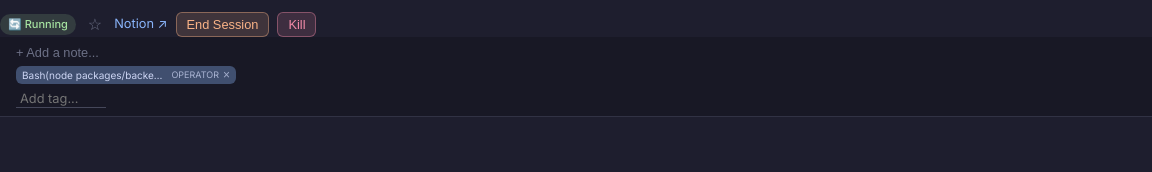
Test: SessionControls — granted capability provenance › revokes a long capability via the existing endpoint, unaffected by truncation
Check: the text "Bash(node packages/backend/scripts/gate-state-client.mjs reclassify:*)" is shown, box [22,67,168,83]
Click the button "×" at (226, 75), box [223,69,230,81]
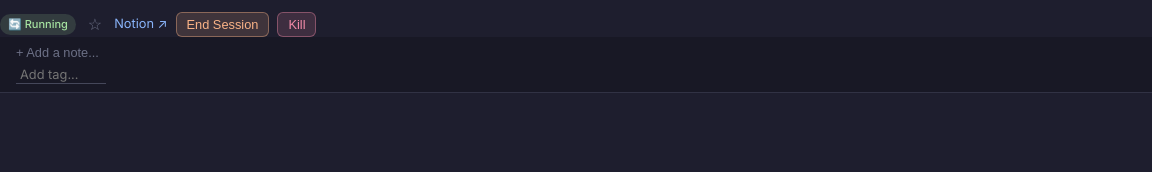
Check: the text "Bash(node packages/backend/scripts/gate-state-client.mjs reclassify:*)" is gone
